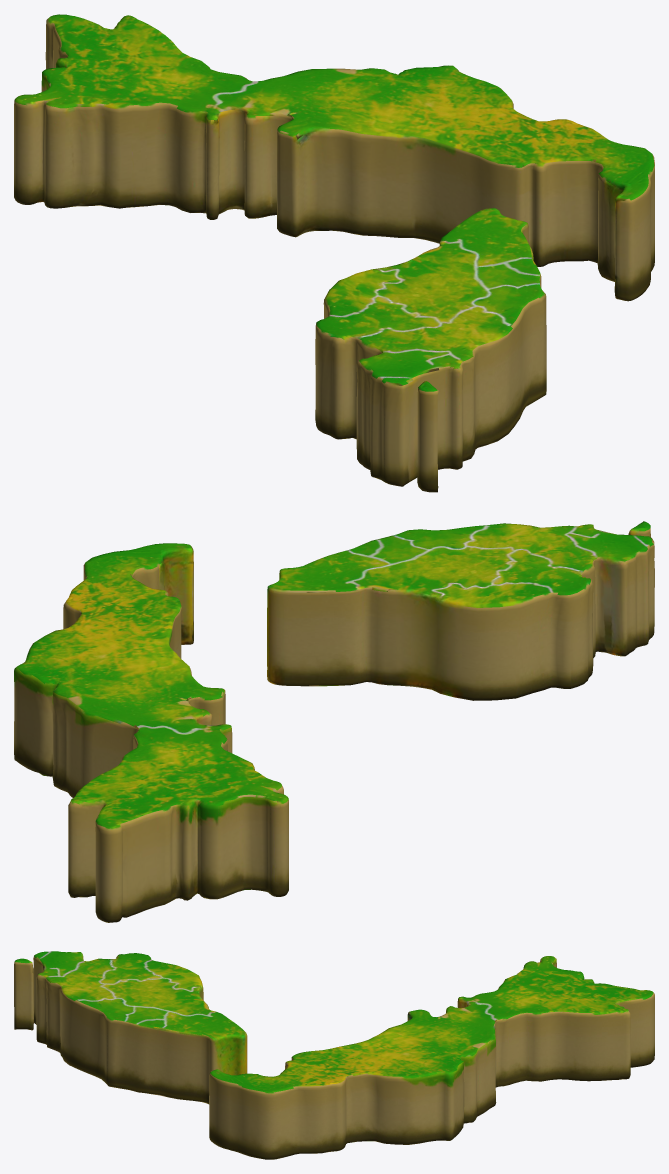
Rendered from Malaysia Map.fbx.
The picture shows the model from 3 angles, top to bottom: view 1: azimuth 30°, elevation 25°; view 2: azimuth 150°, elevation 25°; view 3: azimuth 270°, elevation 25°; orthographic projection. The views are drawn at different scales.
Parts seen in each view (by area): view 1: tripo_node_81bc5b40; view 2: tripo_node_81bc5b40; view 3: tripo_node_81bc5b40.
Part boxes in pixels (x1,y1,x2,y2): tripo_node_81bc5b40: (14,14,654,492); tripo_node_81bc5b40: (14,521,654,922); tripo_node_81bc5b40: (14,951,654,1159).
Size of the model in its own units: 0.5282 by 0.1186 by 0.9996.
1 material, 1 textured.
